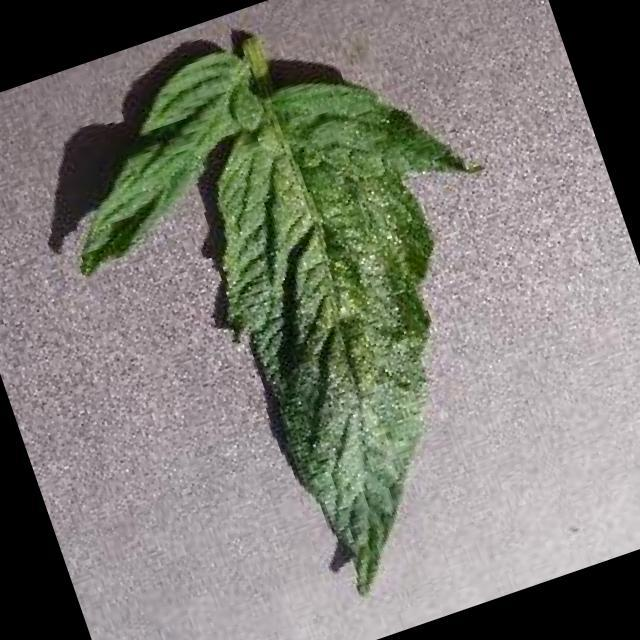Tomato spider mites leaf: (27, 0, 596, 640)
